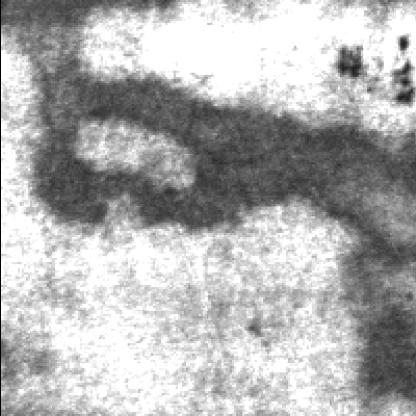patches: (23, 73, 405, 272), (358, 291, 416, 416), (2, 2, 140, 54)
